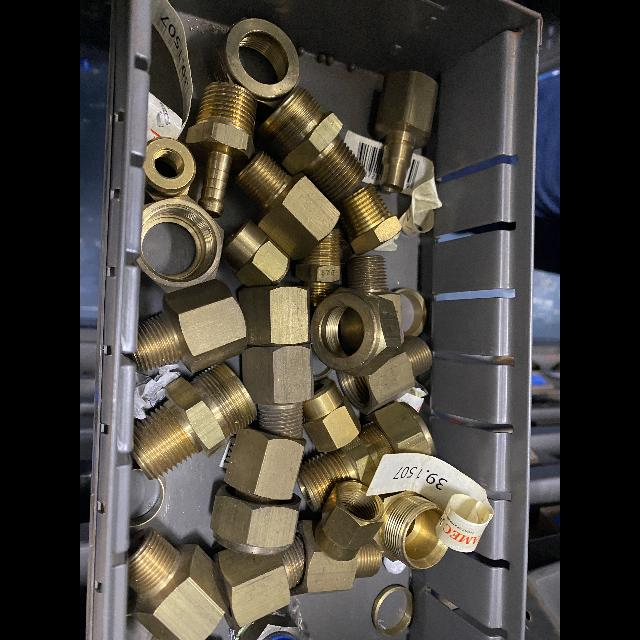Brass: (297, 400, 436, 512), (131, 363, 258, 481), (255, 86, 367, 207), (232, 151, 340, 261), (129, 530, 228, 640), (132, 279, 248, 372), (185, 82, 257, 217), (206, 18, 301, 117), (216, 532, 305, 631), (136, 195, 224, 293), (310, 287, 401, 377), (374, 71, 439, 193), (336, 336, 432, 415), (290, 519, 382, 597), (241, 344, 314, 439), (224, 427, 307, 504), (210, 487, 299, 555), (372, 491, 447, 569), (314, 481, 384, 560), (347, 255, 404, 343), (221, 219, 291, 287), (337, 184, 402, 255), (239, 285, 310, 347), (303, 379, 361, 452), (294, 227, 341, 306), (143, 136, 195, 203), (225, 42, 279, 85), (373, 585, 413, 636), (394, 287, 428, 337), (235, 614, 300, 640)
